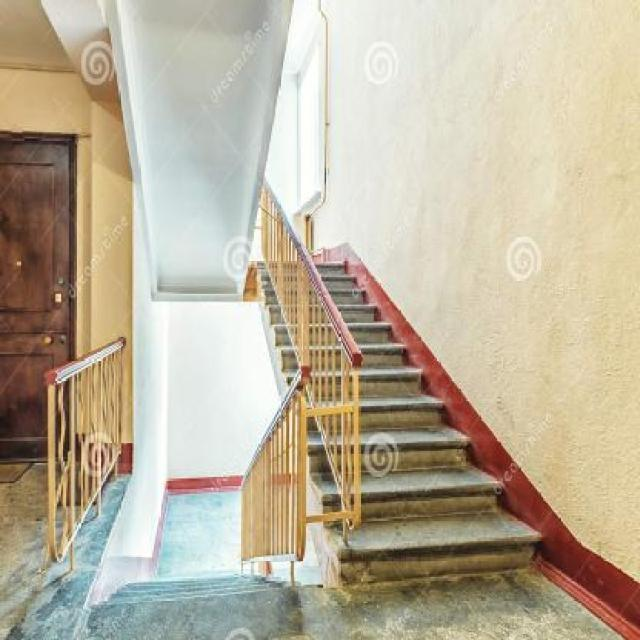stair: (256, 148, 566, 596), (100, 495, 297, 640)
